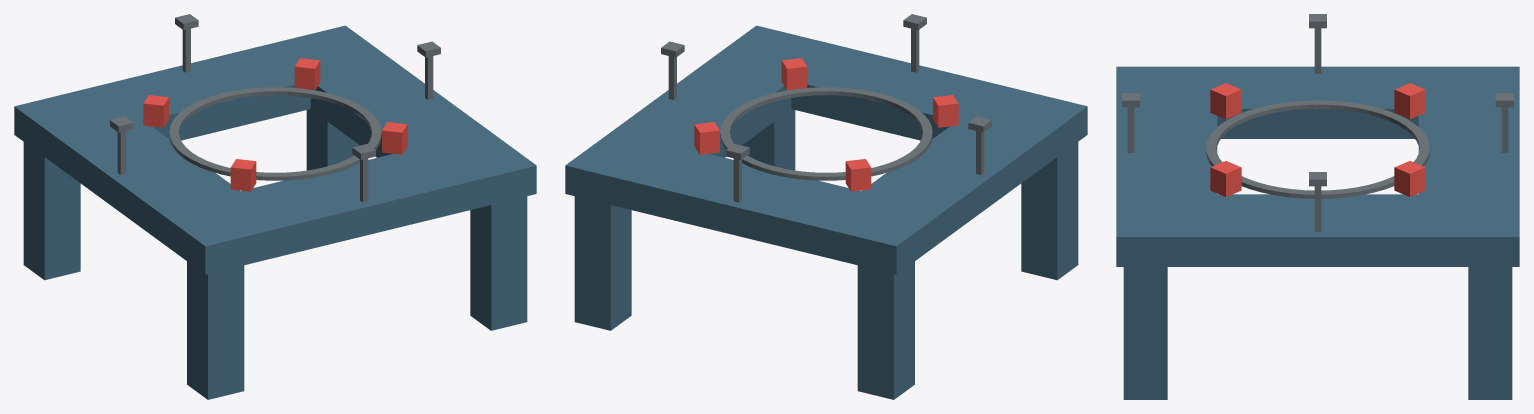
File: pad_mount.fbx
3 renders of one model, left to right at view 1: azimuth 30°, elevation 25°; view 2: azimuth 150°, elevation 25°; view 3: azimuth 270°, elevation 25°, orthographic. The views are drawn at different scales.
Parts seen in each view (by area): view 1: pad_mount; view 2: pad_mount; view 3: pad_mount.
Part boxes in pixels (x1,y1,x2,y2): pad_mount: (14,14,536,399); pad_mount: (565,14,1087,399); pad_mount: (1116,14,1519,399).
Size of the model in its own units: 22 by 13.3 by 22.
